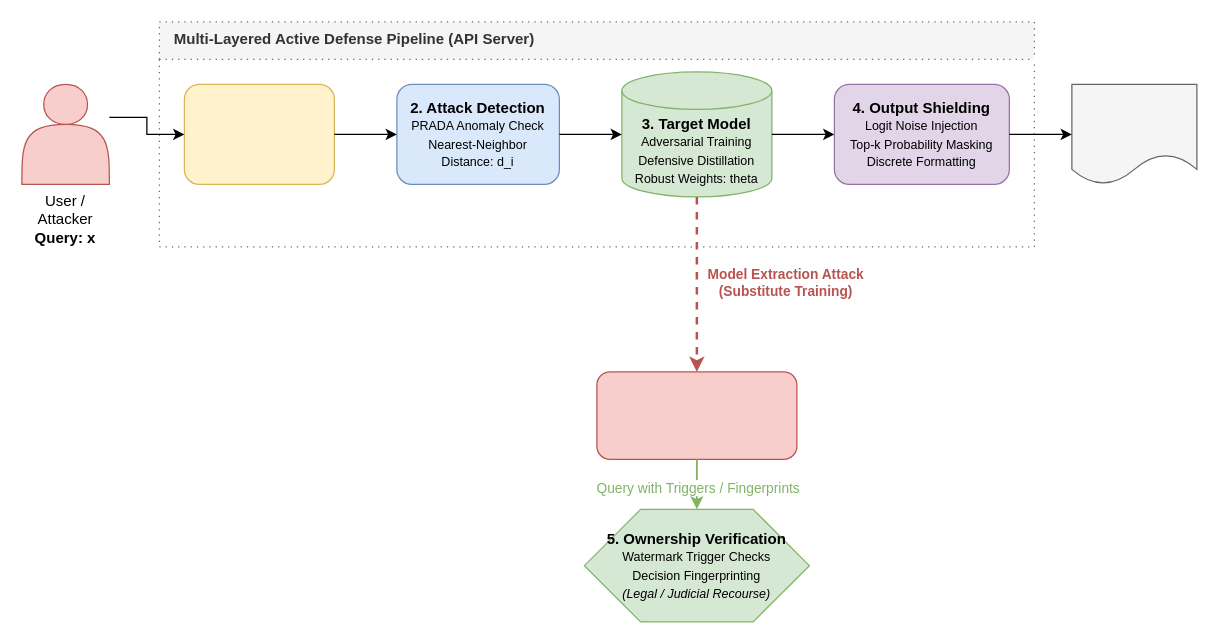
Some shapes in this 1219 by 644 pixel diagram are drawn without their labels. The shapes that lost their labels are listed below. From the top down, each one's centre as x and y in pixels, then its label:
pixel 258 133: 1. Access Control Rate Limiting Token Bucket Authentication
pixel 1134 133: Returned Response Prediction: p(x)
pixel 696 415: Suspect Stolen Model Attacker's replicated clone model having similar boundaries
